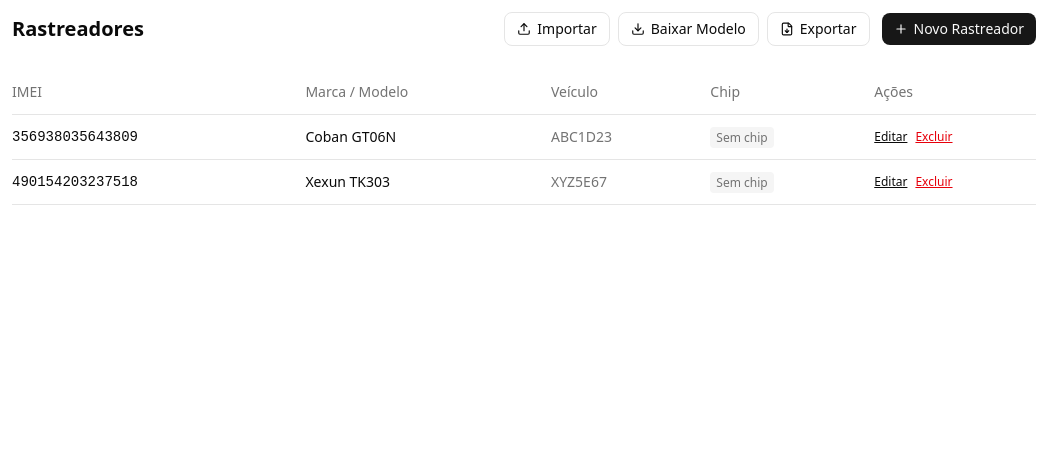
Test: TrackersPage › botão "+ Novo Rastreador" abre o formulário
Click the button "Novo Rastreador". click: [959, 29]
box: [882,13,1036,45]
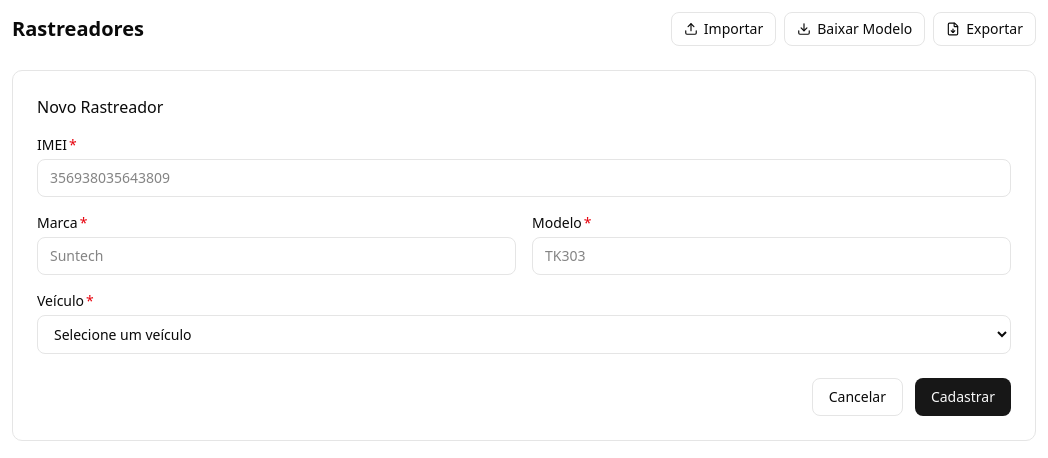
expect the button "Cadastrar" is shown: met, box [915,378,1011,416]
